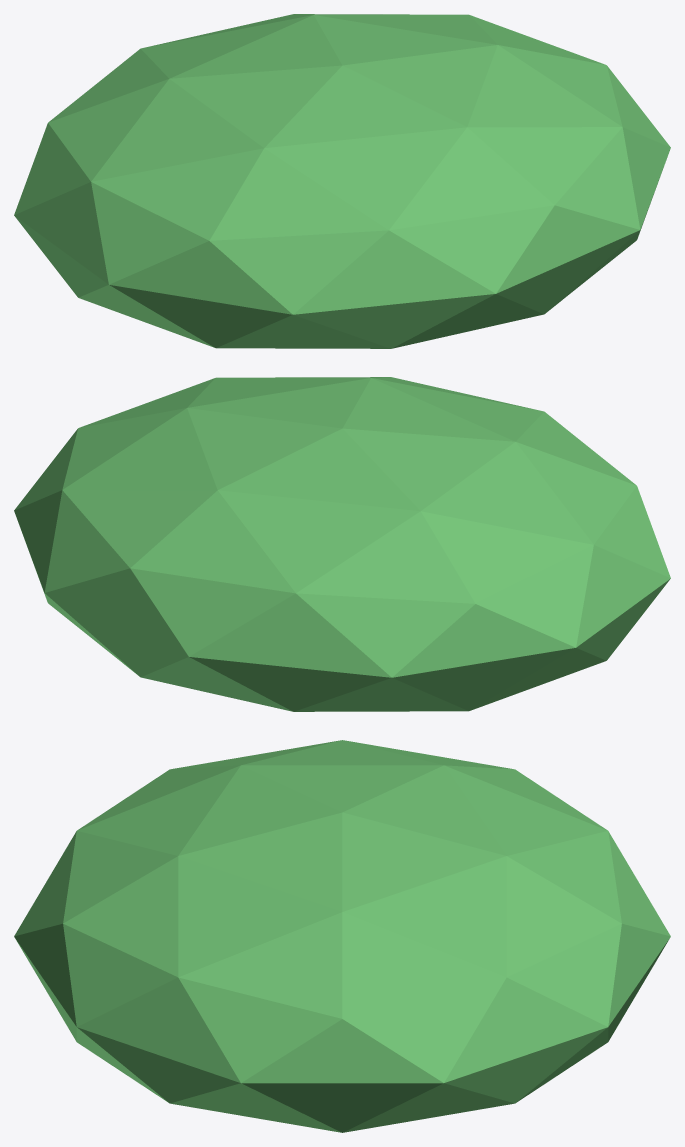
File: Bike_Hill.fbx
3 renders of one model, top to bottom at view 1: azimuth 30°, elevation 25°; view 2: azimuth 150°, elevation 25°; view 3: azimuth 270°, elevation 25°, orthographic. The views are drawn at different scales.
Parts seen in each view (by area): view 1: Hill; view 2: Hill; view 3: Hill.
Boxes of the visible parts, <box> form: Hill: <box>14,14,670,348</box>; Hill: <box>14,377,670,711</box>; Hill: <box>14,740,670,1132</box>.
Bounding box in the file's own units: 30.43 × 12 × 28.8.
